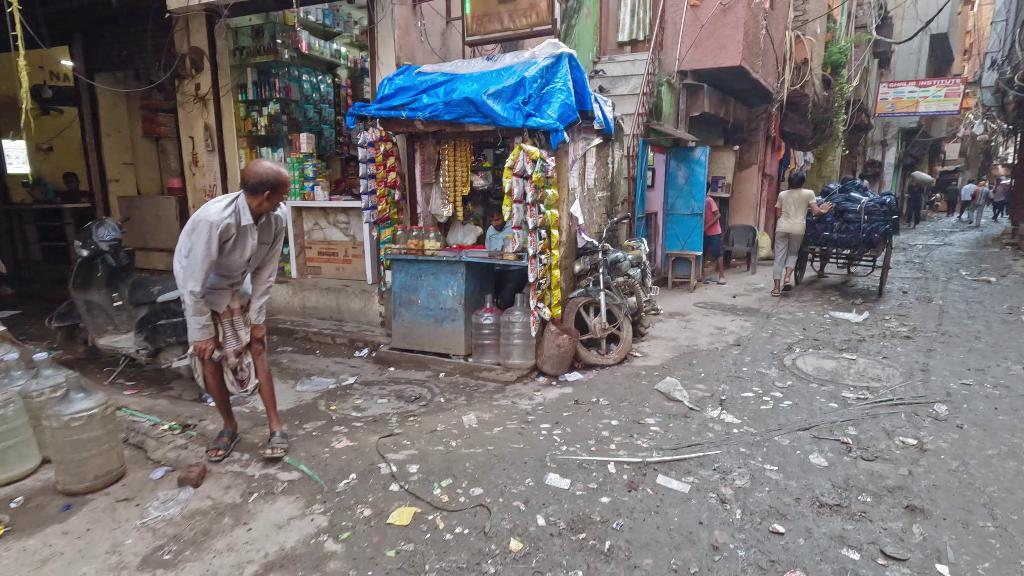garbage: (644, 377, 709, 414), (653, 464, 695, 505), (384, 499, 428, 535), (540, 464, 581, 496), (825, 303, 871, 331)
